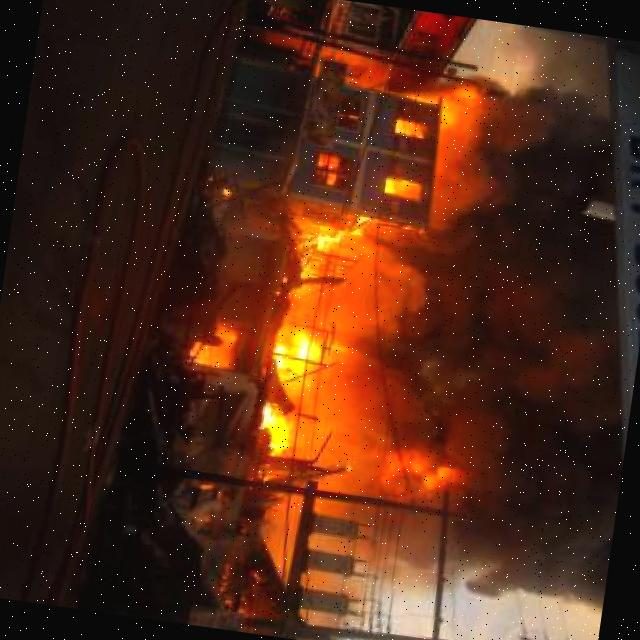fire: (383, 67, 501, 150), (365, 437, 474, 519), (252, 315, 352, 388), (236, 399, 332, 472), (288, 205, 386, 267), (375, 177, 425, 202)
